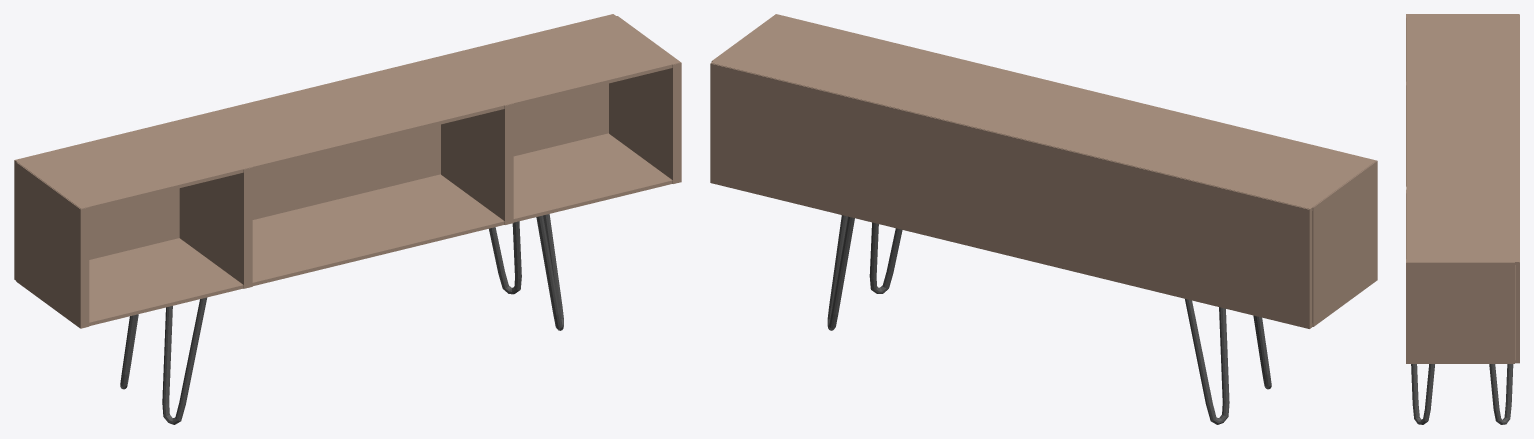
Rendered from Shelf_19.fbx.
3 renders of one model, left to right at view 1: azimuth 30°, elevation 25°; view 2: azimuth 150°, elevation 25°; view 3: azimuth 270°, elevation 25°, orthographic. The views are drawn at different scales.
Visible parts, largest first — view 1: Shelf_19; view 2: Shelf_19; view 3: Shelf_19.
Boxes of the visible parts, <box> form: Shelf_19: <box>14,14,681,424</box>; Shelf_19: <box>710,14,1377,424</box>; Shelf_19: <box>1406,14,1519,424</box>.
Size of the model in its own units: 258 by 49.94 by 101.
